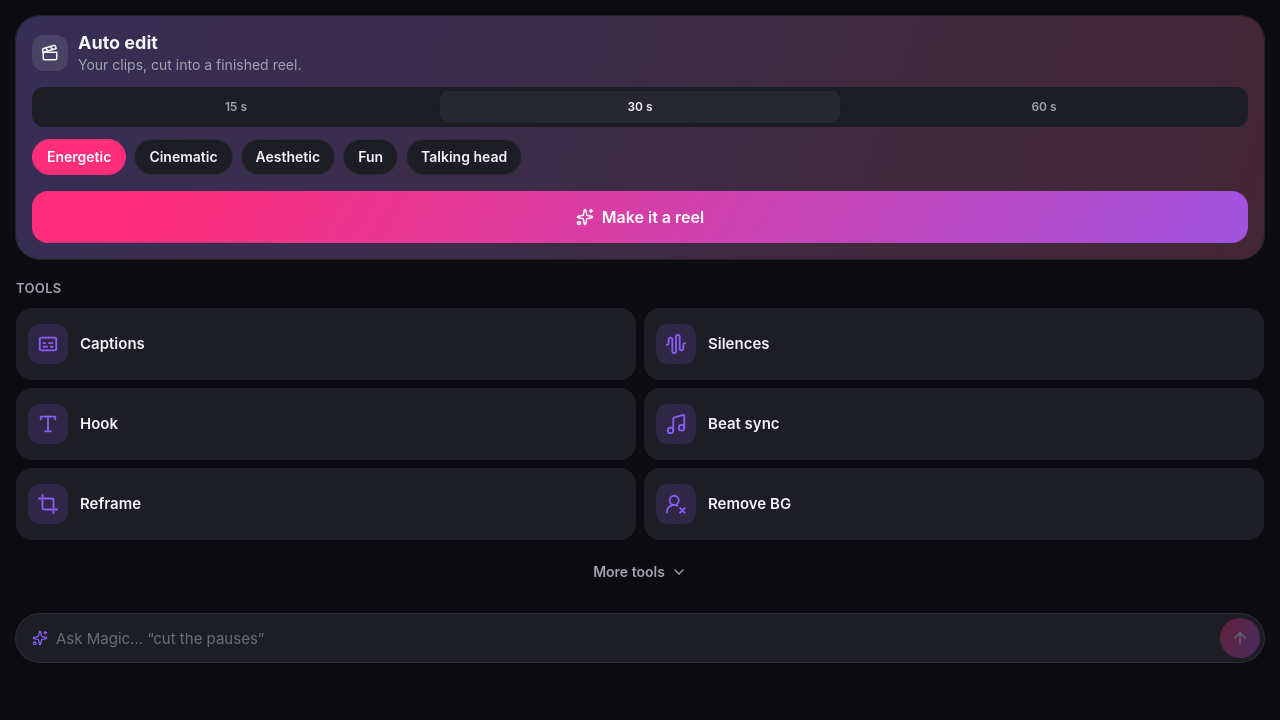
Test: AI panel › remove silences: preview what it saves, apply as one undo step
The image size is (1280, 720).
Click the button "Silences" at (676, 344), box [644,308,1264,380]
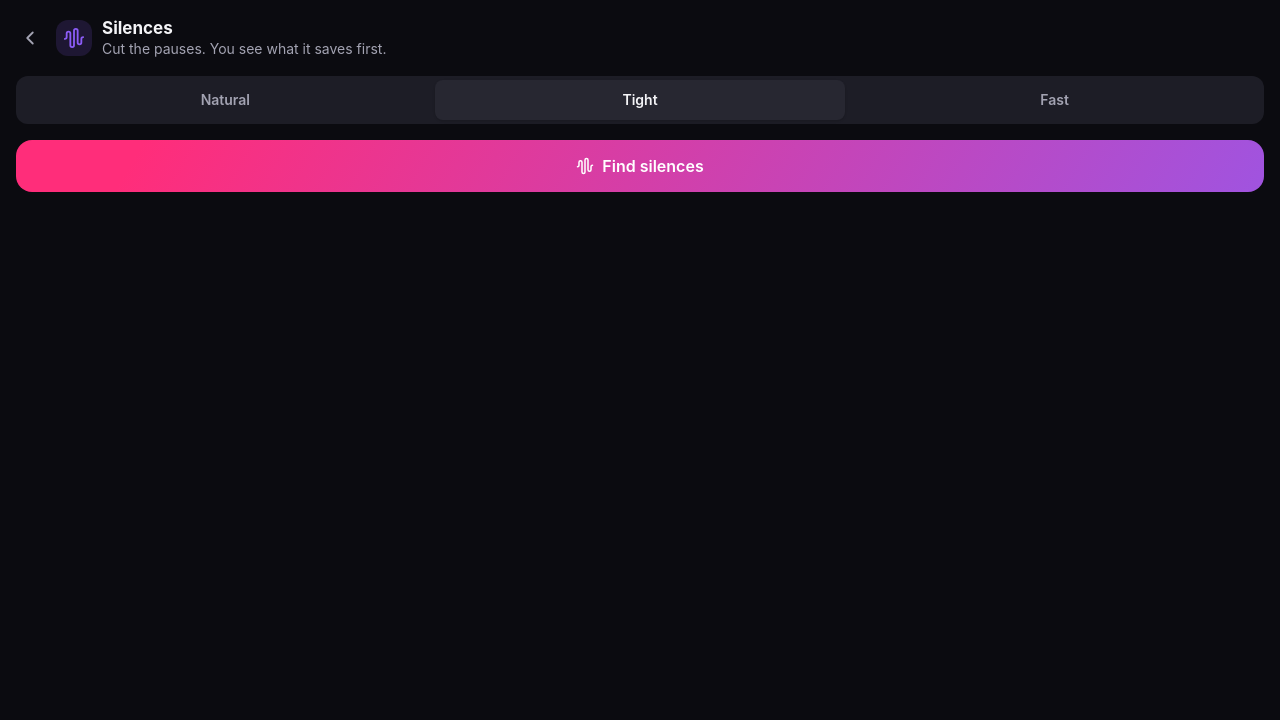
Click the button "Find silences" at (640, 166), box [16,140,1264,192]
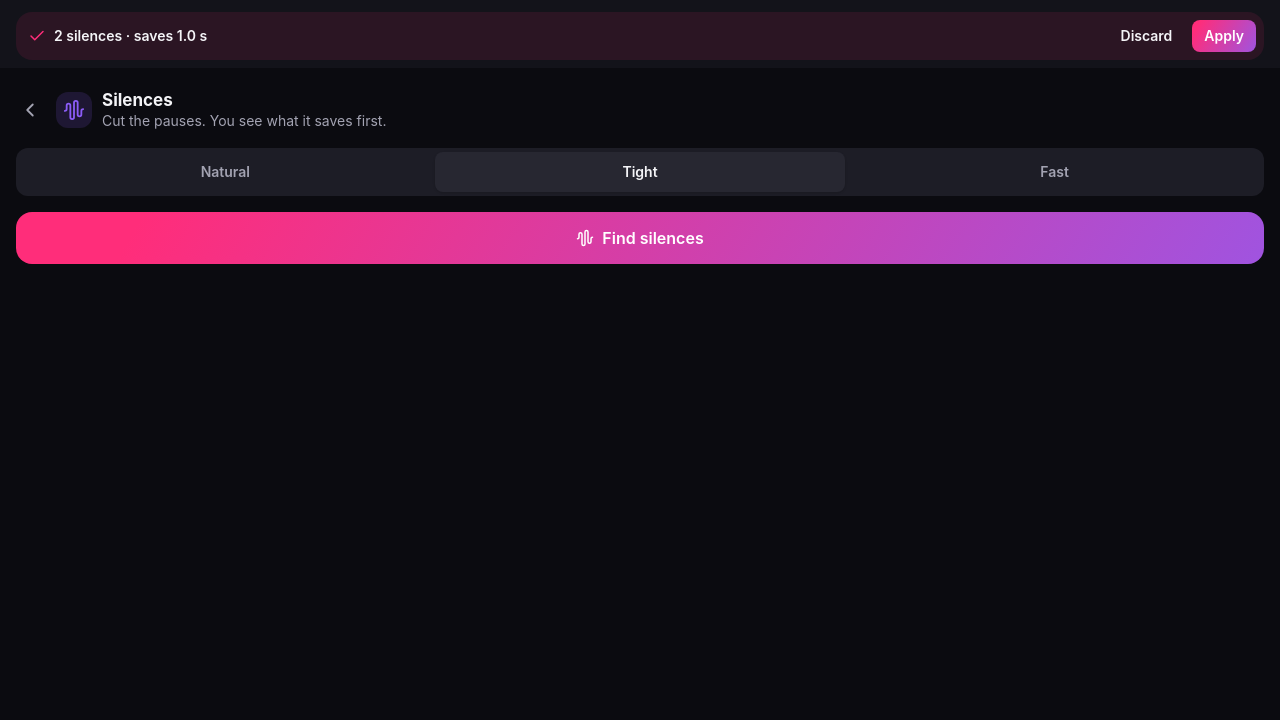
expect the text "2 silences · saves 1.0 s" is shown: met, box [54,27,207,44]
Click the button "Apply" at (1224, 36), box [1192,20,1256,52]
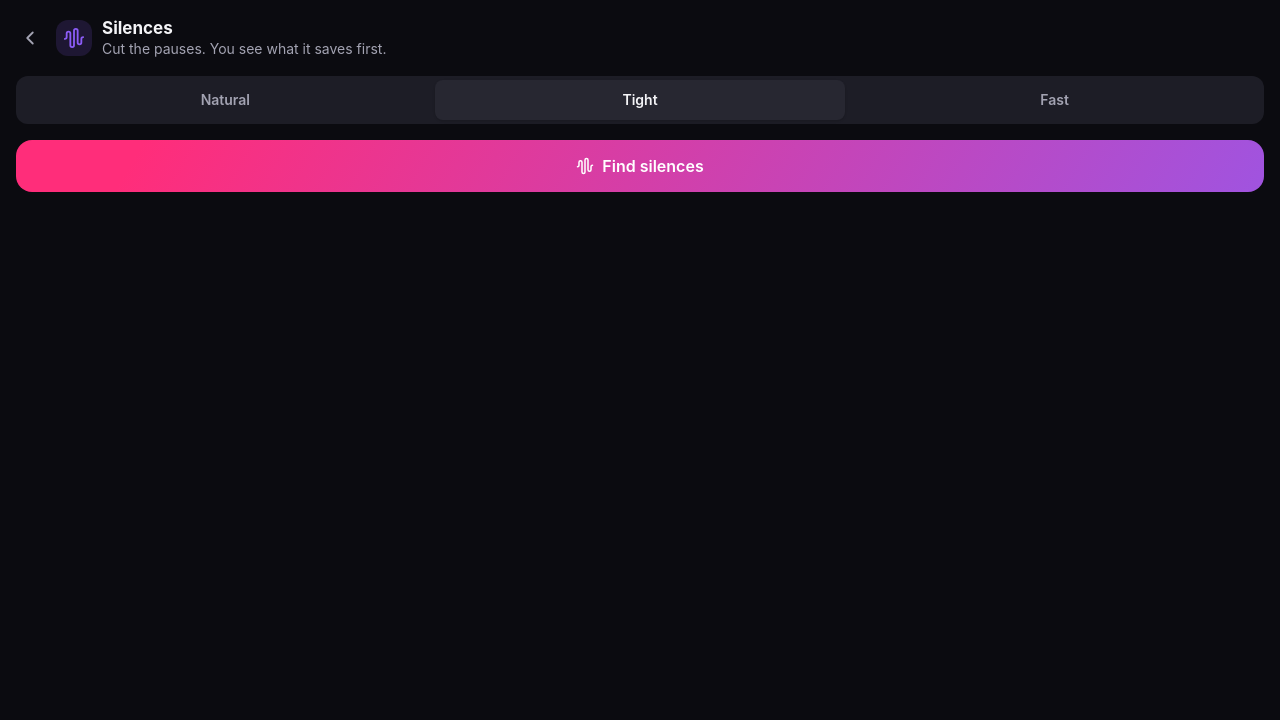
expect the message with test id "task-silence" is gone: met
